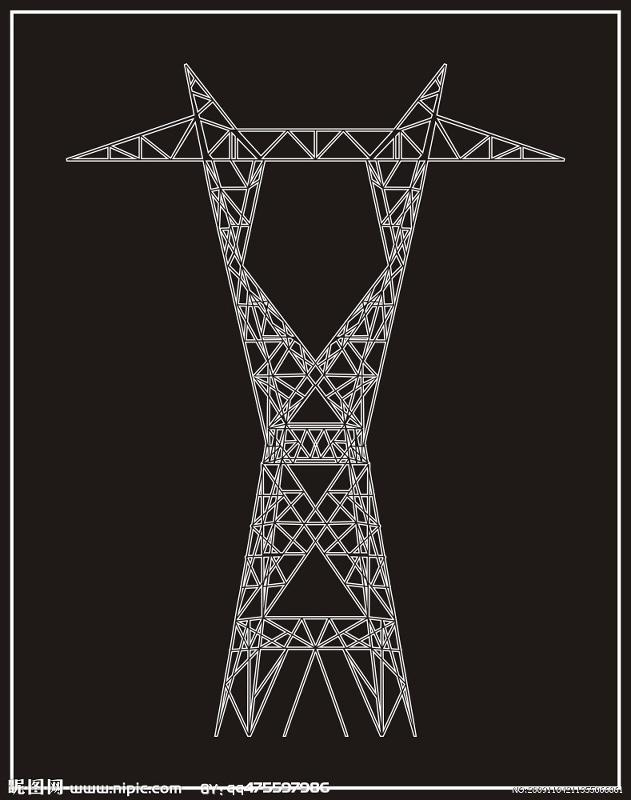power_tower: (58, 51, 574, 735)
